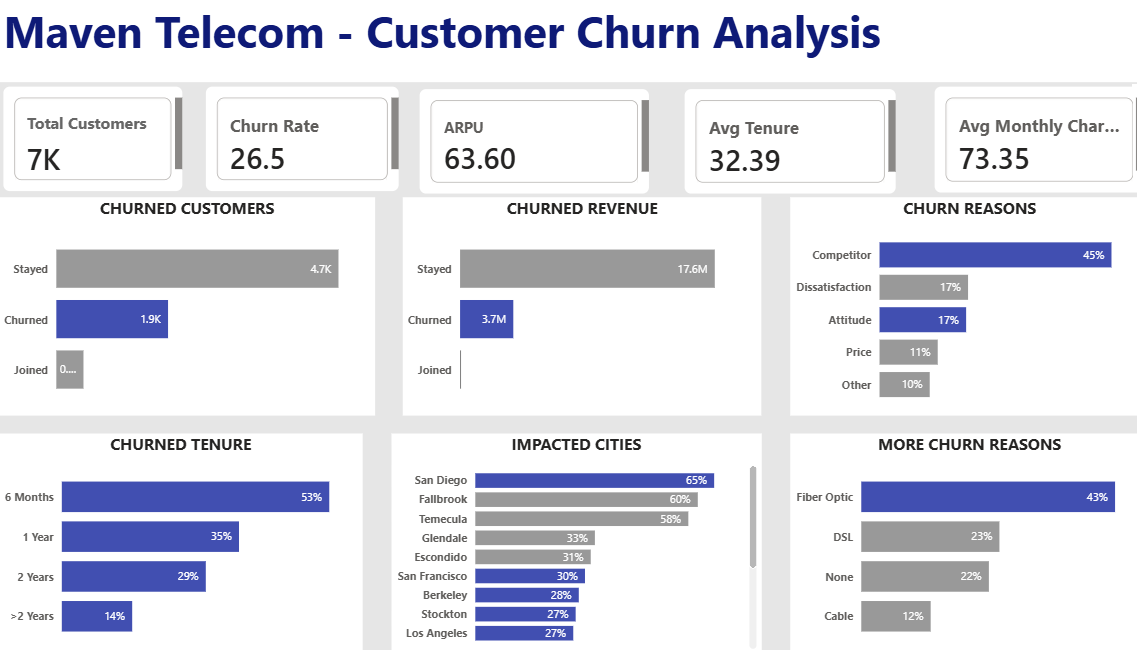

The page's visual inventory and layout, read from the dashboard file:
{"tool":"powerbi","page":{"name":"Page 1","canvas":[1280,720],"ordinal":0},"visuals":[{"type":"shape","box":[0,0,1259.4,94.3],"z":0},{"type":"cardVisual","fields":{"Data":["telecom_customer_churn.Total Customers"]},"box":[0,95.1,206.6,124.3],"z":1000},{"type":"cardVisual","fields":{"Data":["telecom_customer_churn.Churn Rate"]},"box":[221.3,95.1,221.3,124.3],"z":2000},{"type":"cardVisual","fields":{"Data":["telecom_customer_churn.ARPU"]},"box":[455.3,96.9,261.5,124.3],"z":3000},{"type":"cardVisual","fields":{"Data":["telecom_customer_churn.Avg Tenure"]},"box":[746.1,96.9,241.4,124.3],"z":4000},{"type":"barChart","title":"CHURNED CUSTOMERS","fields":{"Category":["telecom_customer_churn.Customer Status"],"Y":["CountNonNull(telecom_customer_churn.Churn Category)"]},"box":[0,220.1,412.2,239.3],"z":5000},{"type":"barChart","title":"CHURNED REVENUE","fields":{"Y":["Sum(telecom_customer_churn.Total Revenue)"],"Category":["telecom_customer_churn.Customer Status"]},"box":[442.8,220.1,393,239.3],"z":6000},{"type":"clusteredBarChart","title":"CHURNED TENURE","fields":{"Category":["telecom_customer_churn.Tenure Group"],"Y":["telecom_customer_churn.Churn % by Tenure"]},"box":[0,478.6,398.3,241],"z":7000},{"type":"barChart","title":"IMPACTED CITIES","fields":{"Category":["telecom_customer_churn.City"],"Y":["telecom_customer_churn.City Churn Rate"]},"box":[429.7,478.6,405.2,241],"z":8000},{"type":"barChart","title":"CHURN REASONS","fields":{"Category":["telecom_customer_churn.Churn Category"],"Y":["telecom_customer_churn.Churn Category %"]},"box":[866.4,220.1,393,239.3],"z":9000},{"type":"barChart","title":"MORE CHURN REASONS","fields":{"Y":["telecom_customer_churn.Internet Type %"],"Category":["telecom_customer_churn.Internet Type"]},"box":[866.4,478.6,393,241],"z":10000},{"type":"textbox","box":[0,0,1274.5,95.1],"z":11000},{"type":"cardVisual","fields":{"Data":["telecom_customer_churn.Avg Monthly Charge"]},"box":[1020.3,95.1,239.5,126.2],"z":12000}]}

Visuals, with their boxes in screenshot pixels (x1, y1, x2, y2), scaled from the page's 1280x720 canvas onto the 1137x650 screenshot:
shape: bbox=[0, 0, 1119, 85]
cardVisual - telecom_customer_churn.Total Customers: bbox=[0, 86, 184, 198]
cardVisual - telecom_customer_churn.Churn Rate: bbox=[197, 86, 393, 198]
cardVisual - telecom_customer_churn.ARPU: bbox=[404, 87, 637, 200]
cardVisual - telecom_customer_churn.Avg Tenure: bbox=[663, 87, 877, 200]
"CHURNED CUSTOMERS" barChart: bbox=[0, 199, 366, 415]
"CHURNED REVENUE" barChart: bbox=[393, 199, 742, 415]
"CHURNED TENURE" clusteredBarChart: bbox=[0, 432, 354, 649]
"IMPACTED CITIES" barChart: bbox=[382, 432, 742, 649]
"CHURN REASONS" barChart: bbox=[770, 199, 1119, 415]
"MORE CHURN REASONS" barChart: bbox=[770, 432, 1119, 649]
textbox: bbox=[0, 0, 1132, 86]
cardVisual - telecom_customer_churn.Avg Monthly Charge: bbox=[906, 86, 1119, 200]
